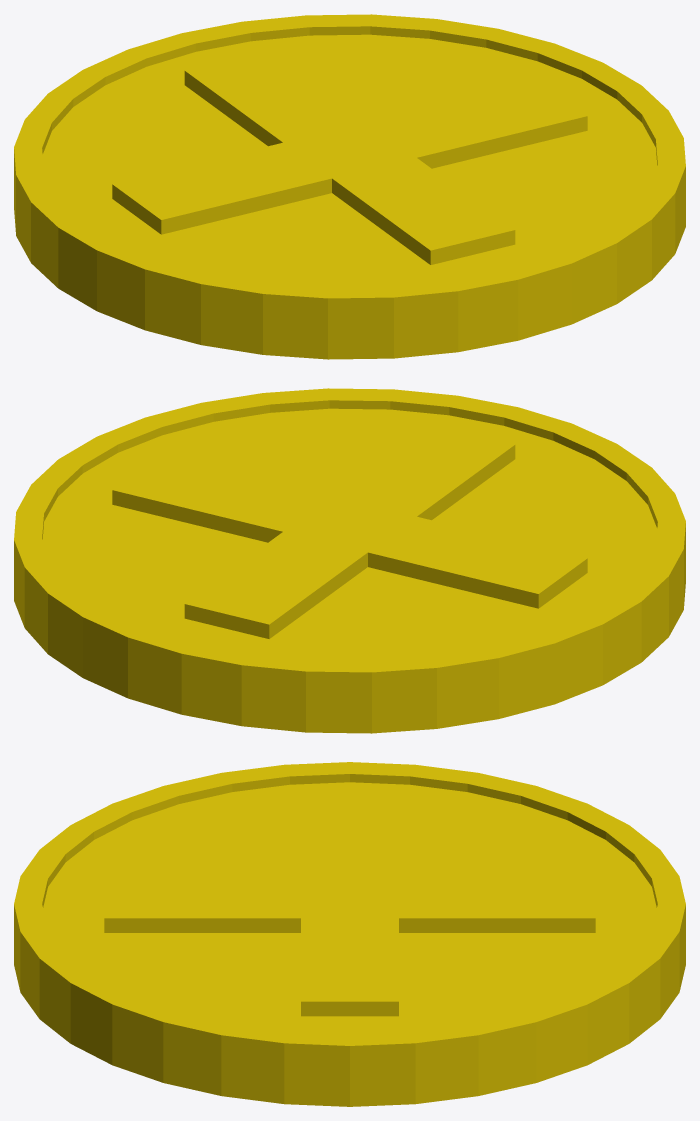
Rendered from Coin.fbx.
3 views of the same model, one above another, from view 1: azimuth 30°, elevation 25°; view 2: azimuth 150°, elevation 25°; view 3: azimuth 270°, elevation 25° (orthographic).
Parts seen in each view (by area): view 1: Coin; view 2: Coin; view 3: Coin.
Part boxes in pixels (x1=…): Coin: x1=14, y1=14, x2=685, y2=359; Coin: x1=14, y1=388, x2=685, y2=733; Coin: x1=14, y1=762, x2=685, y2=1106.
Size of the model in its own units: 200 by 25.09 by 200.
